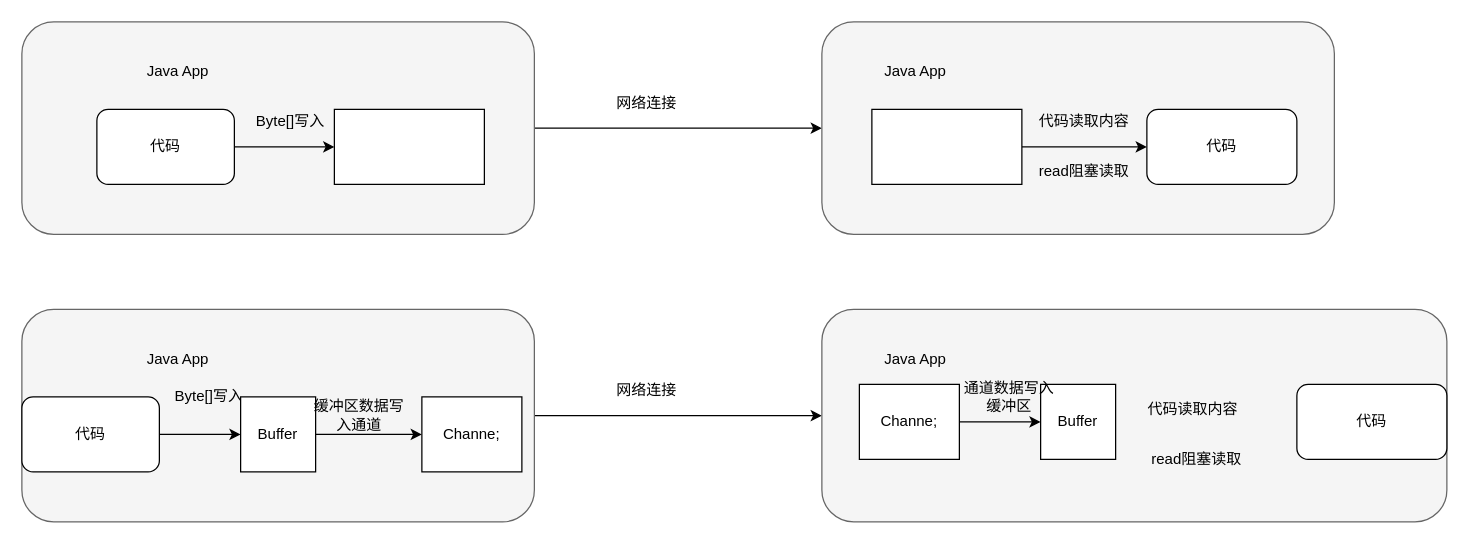
Image size: 1469x544. Some labels were removed from this diagram. The shapes that lost their labels are listed below. From the top down, each one's centre as x and y in pixels, then its label:
At (408,146): "outputStream".
At (946,146): "inputStream".
